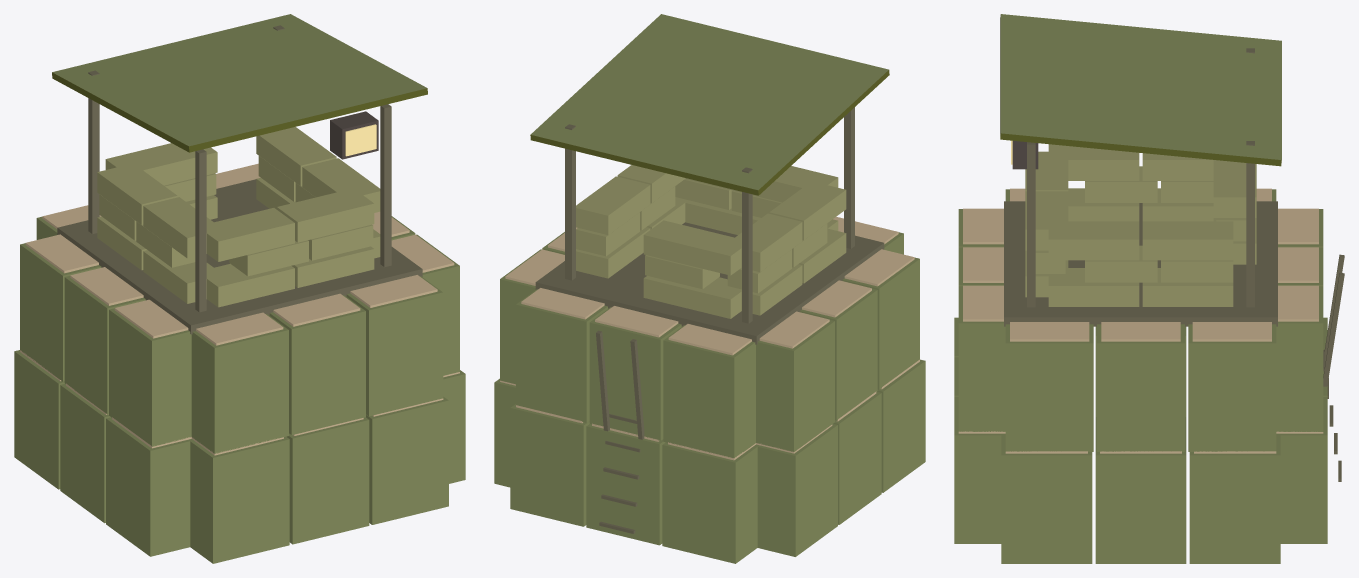
The model's file is SM_Torreta_v1_Hesco_LOD0.fbx.
3 renders of one model, left to right at view 1: azimuth 30°, elevation 25°; view 2: azimuth 150°, elevation 25°; view 3: azimuth 270°, elevation 25°, orthographic. The views are drawn at different scales.
Parts seen in each view (by area): view 1: SM_bloques.torreta_v1_LOD0, Luces; view 2: SM_bloques.torreta_v1_LOD0; view 3: SM_bloques.torreta_v1_LOD0.
Part boxes in pixels (x1,y1,x2,y2): SM_bloques.torreta_v1_LOD0: [14, 14, 465, 563]; Luces: [345, 124, 376, 156]; SM_bloques.torreta_v1_LOD0: [494, 14, 925, 563]; SM_bloques.torreta_v1_LOD0: [954, 14, 1344, 563].
Bounding box in the file's own units: 4.36 × 5.3 × 4.56.
